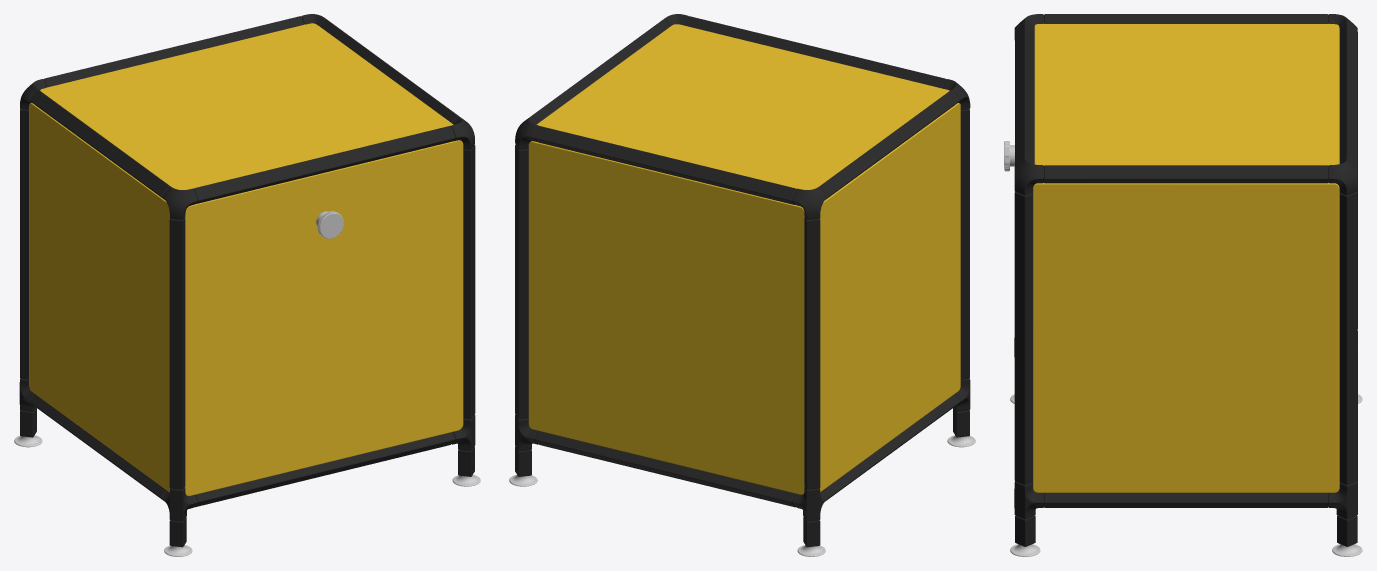
The picture shows the model from 3 angles, left to right: view 1: azimuth 30°, elevation 25°; view 2: azimuth 150°, elevation 25°; view 3: azimuth 270°, elevation 25°; orthographic projection. The views are drawn at different scales.
Parts seen in each view (by area): view 1: 420x374x420; view 2: 420x374x420; view 3: 420x374x420.
Part boxes in pixels (x1,y1,x2,y2): 420x374x420: (14, 14, 480, 556); 420x374x420: (509, 14, 975, 556); 420x374x420: (1004, 14, 1362, 556).
Size of the model in its own units: 0.5099 by 0.5593 by 0.4707.
